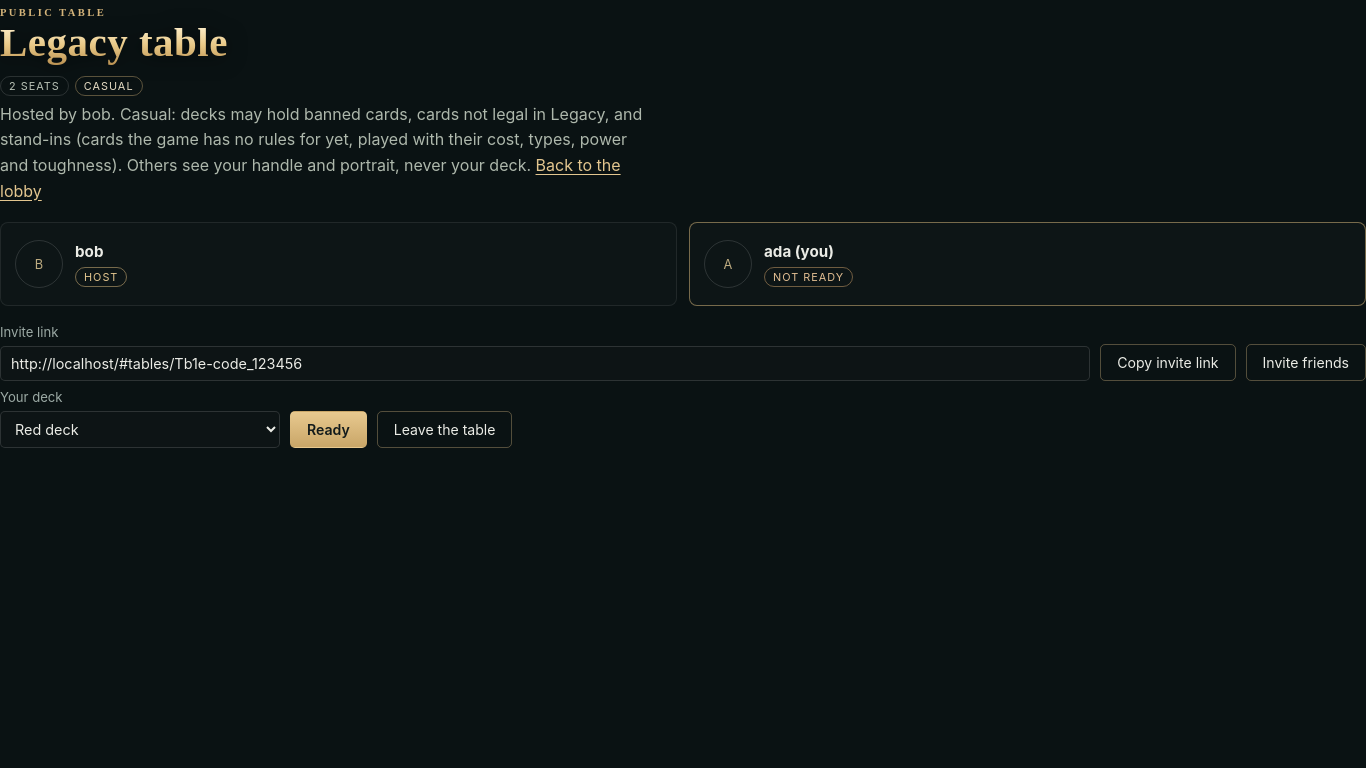
Scenario: finding a game (v0.9.2) › invites friends from a table's page
The image size is (1366, 768).
Click the button "Invite friends" at (1306, 363), box [1246, 344, 1365, 381]
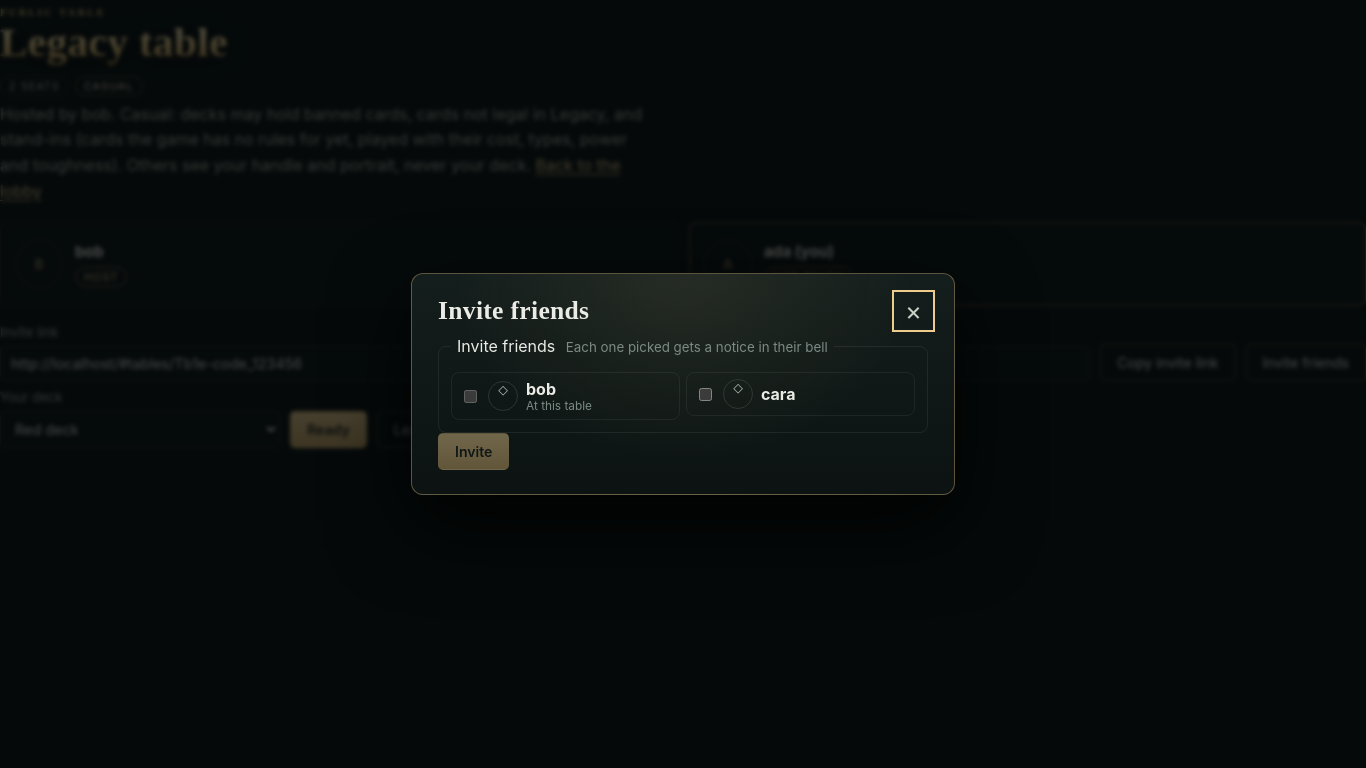
expect the checkbox labelled "◇ bob At this table" is disabled: met, box [464, 390, 477, 402]
Click the checkbox labelled "◇ cara" at (706, 394), box [699, 388, 712, 400]
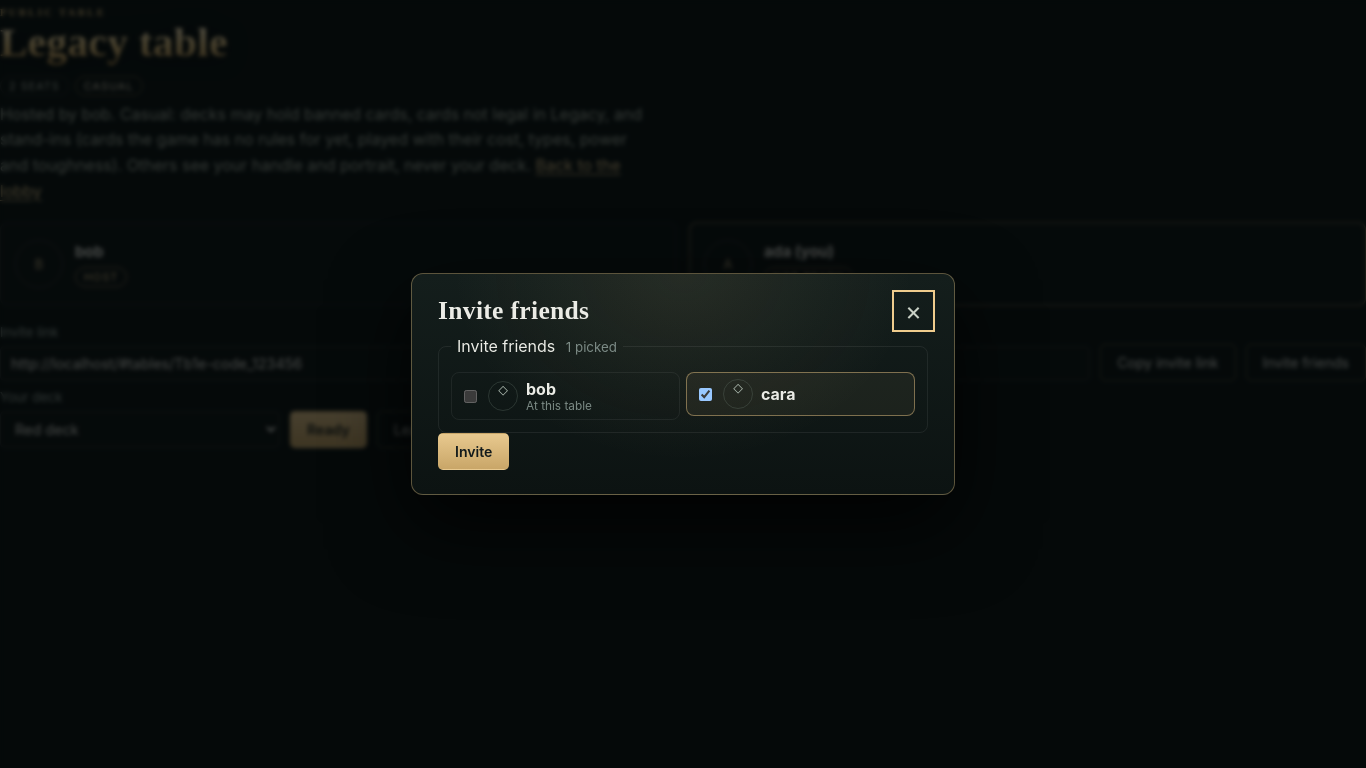
Click the button "Invite" at (474, 452), box [438, 433, 509, 470]
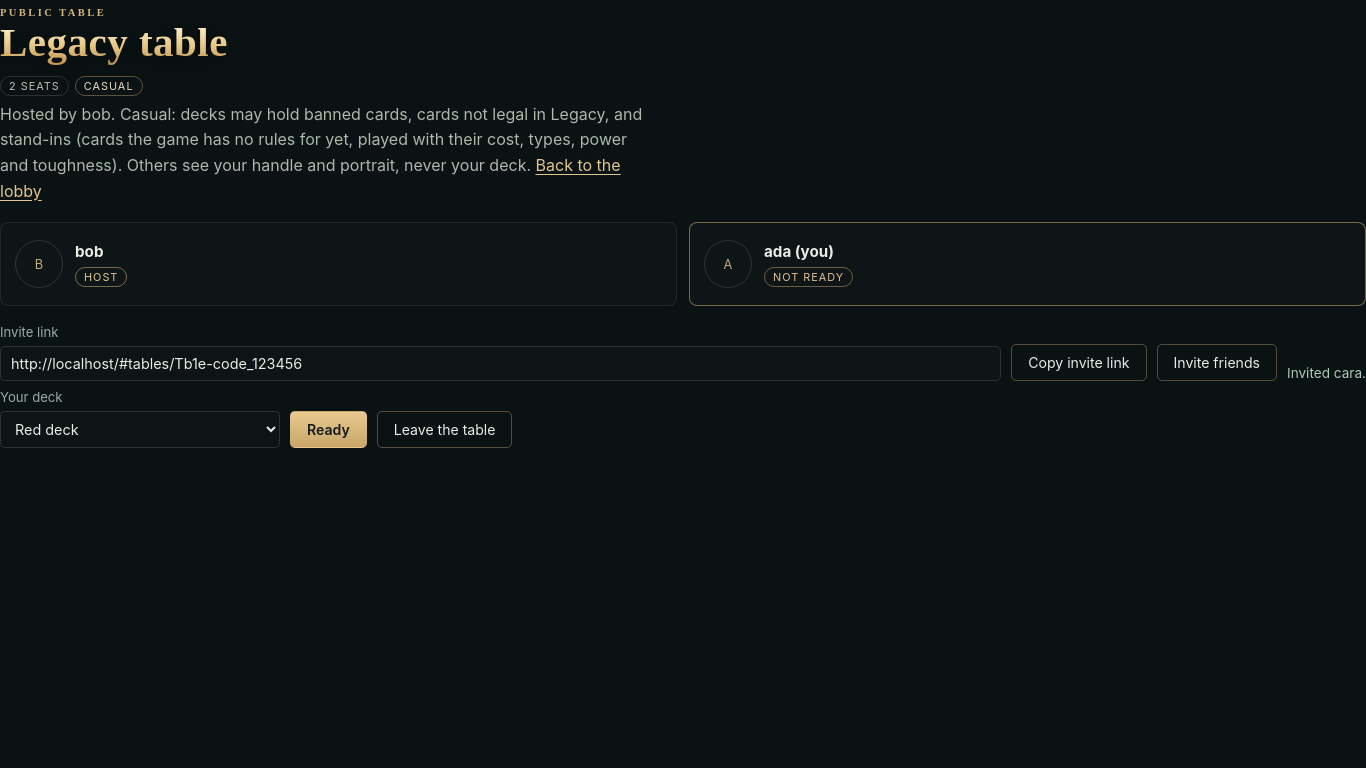
expect the text "Invited cara." is shown: met, box [1287, 365, 1365, 381]
